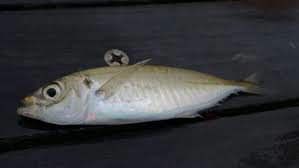azi: (16, 63, 268, 126)
